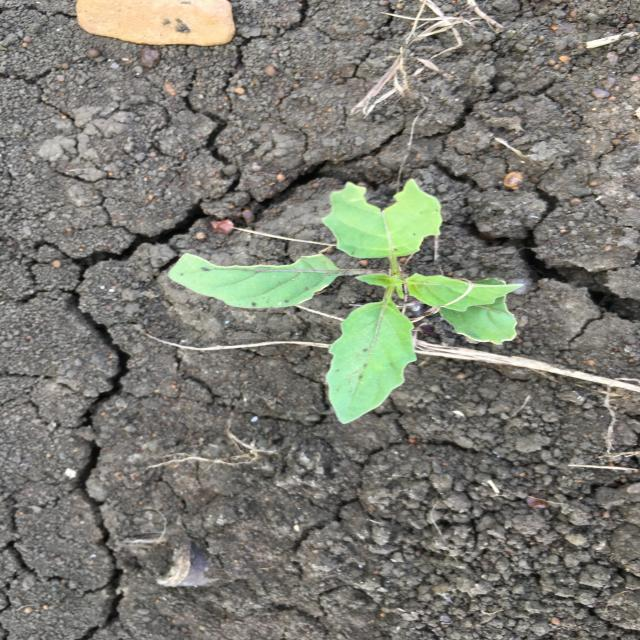CutleafGroundcherry: (168, 178, 530, 427)
